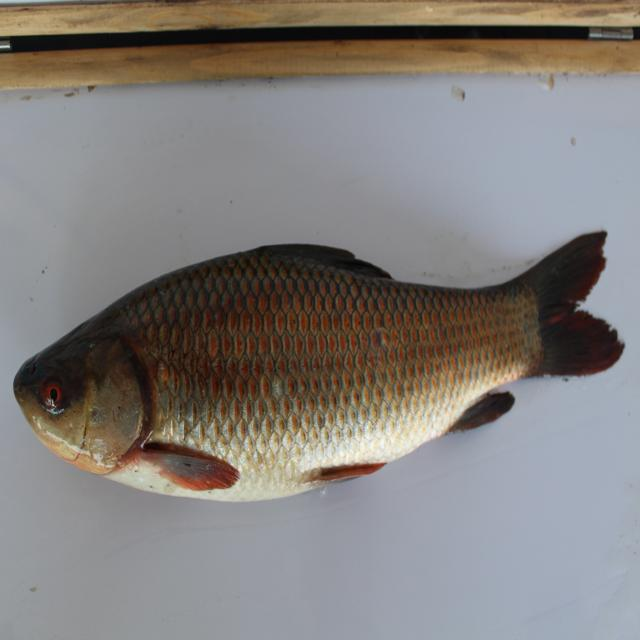Rohu: (18, 237, 637, 499)
